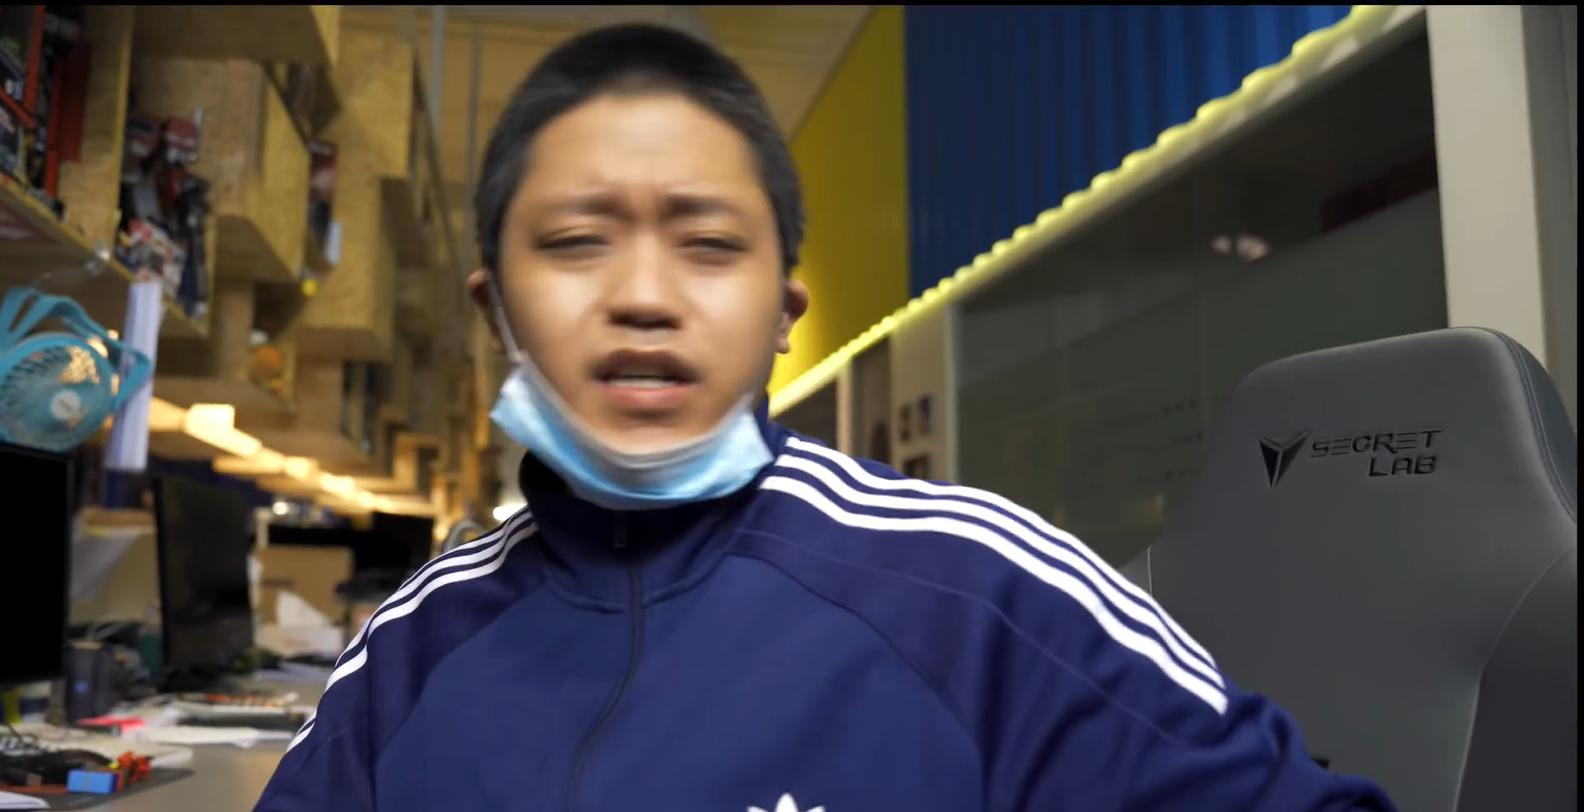with_incorrect_mask: (520, 178, 761, 463)
